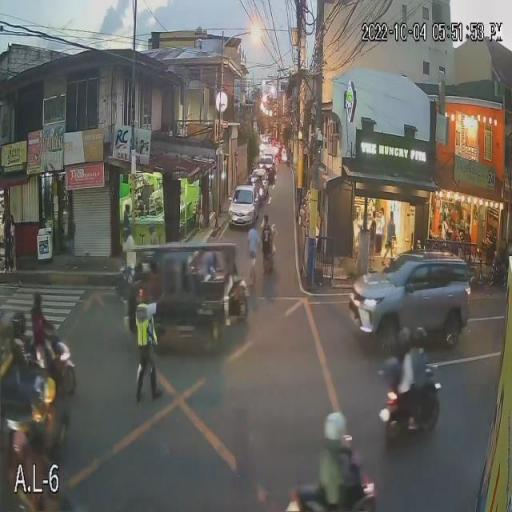helmet: (323, 412, 346, 442), (398, 327, 411, 353), (415, 327, 429, 349), (32, 292, 43, 305), (123, 226, 132, 236)
motorcycle: (380, 364, 441, 435), (286, 470, 386, 512), (35, 345, 78, 392), (116, 266, 134, 295)
rider: (314, 442, 359, 512), (29, 308, 54, 368), (398, 354, 417, 432), (417, 354, 432, 430), (120, 238, 131, 302)
